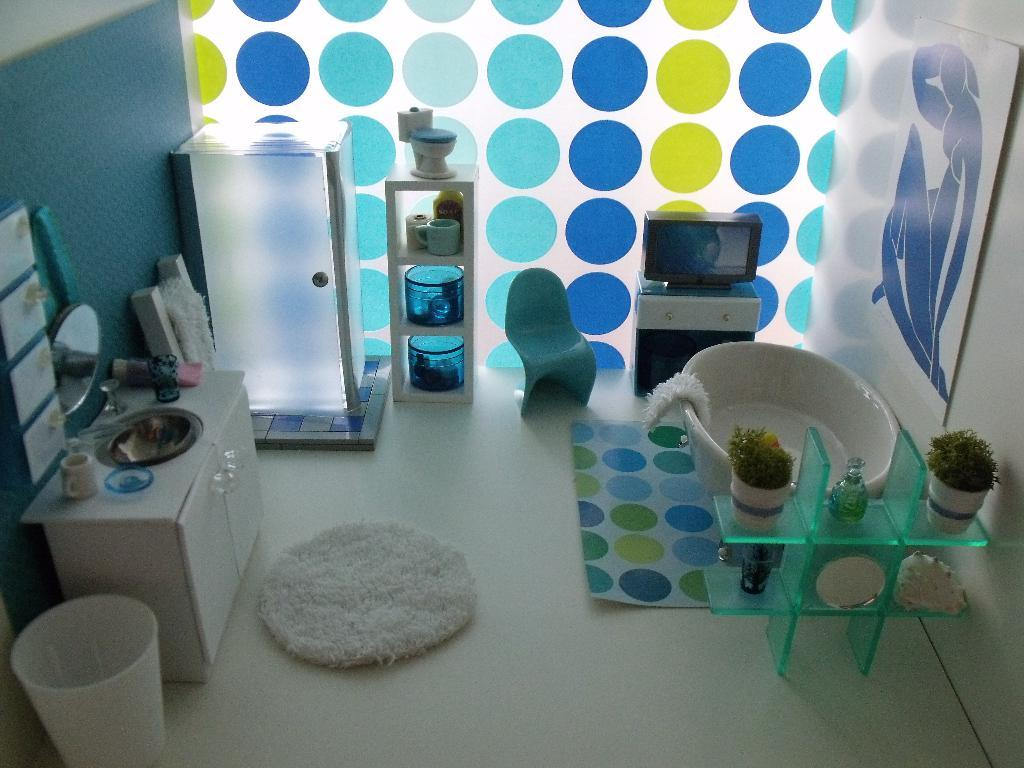Chair: (498, 267, 595, 420)
